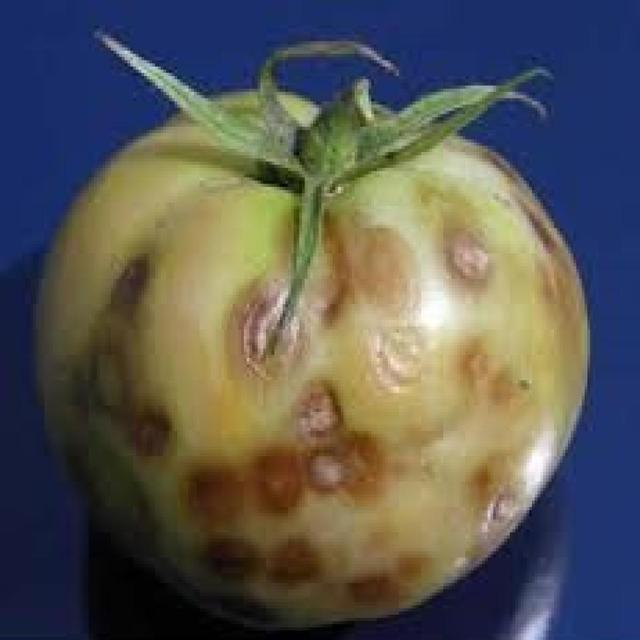Spotted wilt Virus Fruit: (24, 56, 393, 417)
